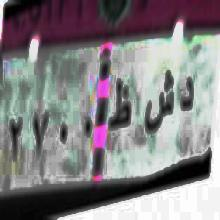0: (56, 116, 71, 154), (82, 108, 94, 149)
2: (5, 109, 25, 165)
7: (33, 105, 49, 160)
Thaa: (108, 74, 132, 138)
daal: (180, 72, 196, 124)
sheen: (142, 73, 174, 140)
